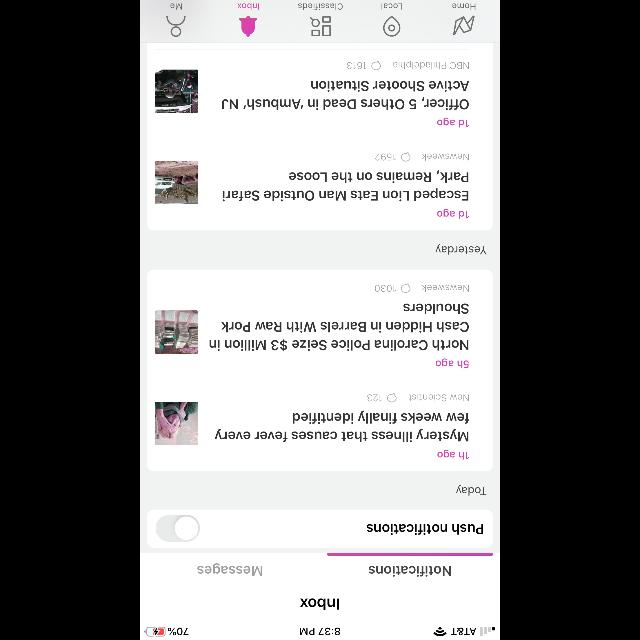icon: (167, 16, 186, 38), (310, 16, 330, 36), (239, 16, 257, 38), (384, 16, 401, 36), (387, 392, 397, 402), (400, 152, 410, 162), (371, 61, 381, 70), (400, 284, 410, 292)
image: (154, 401, 198, 445), (155, 310, 199, 354), (154, 69, 198, 113), (154, 160, 198, 203), (452, 16, 474, 36)
switch: (156, 514, 200, 542)
text: (209, 303, 469, 351), (215, 410, 470, 442), (223, 170, 469, 202), (222, 82, 468, 110), (366, 524, 484, 534), (198, 562, 262, 576), (369, 566, 451, 576), (394, 60, 468, 70), (436, 243, 486, 254), (409, 394, 469, 402), (300, 598, 338, 610), (422, 284, 468, 292), (456, 484, 486, 496), (436, 358, 468, 368), (437, 449, 469, 459), (437, 209, 469, 219), (437, 118, 469, 128), (422, 154, 468, 160), (298, 4, 342, 10), (374, 284, 396, 292), (347, 62, 367, 70), (452, 4, 476, 10), (374, 154, 396, 160), (237, 4, 259, 10), (382, 4, 402, 10), (368, 394, 382, 402), (170, 4, 182, 10)
uppertaskbar: (140, 626, 500, 640)
